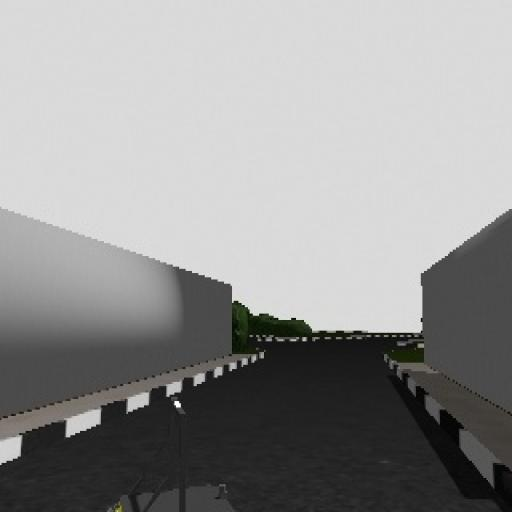huskya200: (86, 386, 242, 512)
